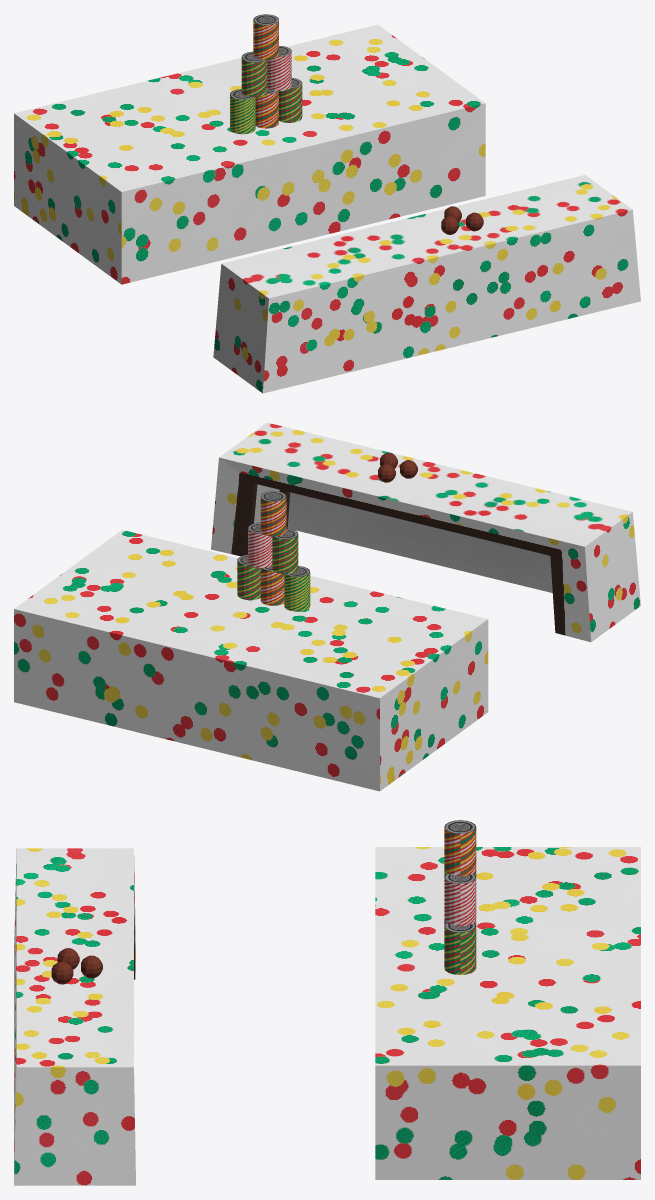
Rendered from Minigame_can_toss01.fbx.
The picture shows the model from 3 angles, top to bottom: view 1: azimuth 30°, elevation 25°; view 2: azimuth 150°, elevation 25°; view 3: azimuth 270°, elevation 25°; orthographic projection. The views are drawn at different scales.
Visible parts, largest first — view 1: Minigame_Table02, Minigame_Table01, Can01, Can04, Can03, Can02, Can05, Can06; view 2: Minigame_Table02, Minigame_Table01, Can01, Can04, Can03, Can02, Can05, Can06; view 3: Minigame_Table02, Minigame_Table01, Can01, Can02, Can05.
Part boxes in pixels (x1,y1,x2,y2): Minigame_Table02: (14, 24, 485, 284); Minigame_Table01: (213, 175, 640, 393); Can01: (253, 14, 278, 59); Can04: (241, 51, 267, 96); Can03: (230, 89, 255, 134); Can02: (267, 46, 291, 90); Can05: (279, 77, 302, 122); Can06: (255, 88, 278, 128); Minigame_Table02: (14, 530, 488, 791); Minigame_Table01: (211, 422, 640, 642); Can01: (260, 491, 286, 536); Can04: (272, 528, 298, 573); Can03: (284, 566, 310, 611); Can02: (248, 522, 272, 567); Can05: (237, 554, 260, 600); Can06: (260, 565, 284, 605); Minigame_Table02: (375, 847, 640, 1179); Minigame_Table01: (14, 848, 135, 1185); Can01: (444, 820, 476, 876); Can02: (444, 873, 476, 926); Can05: (444, 923, 476, 974).
Bounding box in the file's own units: 3.26 × 1.62 × 3.79.
7 materials, 7 textured.
